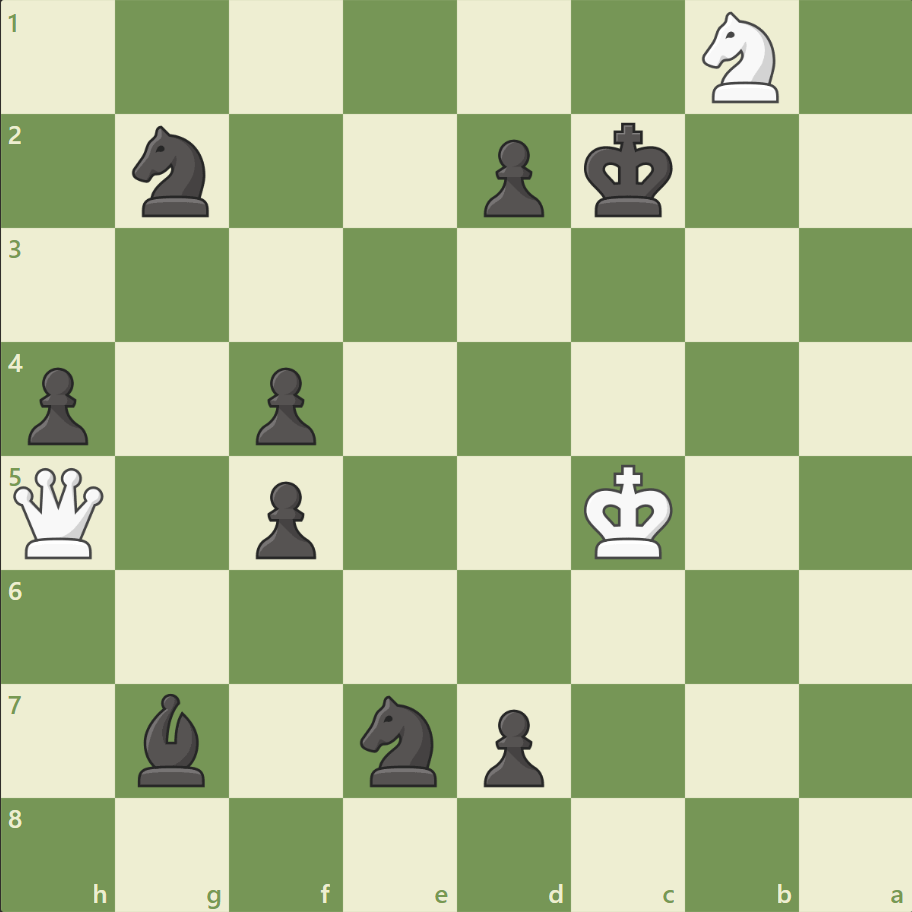K: (579, 458, 679, 566)
N: (692, 7, 789, 110)
Q: (10, 463, 109, 562)
b: (131, 687, 215, 790)
k: (579, 117, 679, 225)
n: (351, 688, 449, 791), (124, 121, 222, 223)
p: (474, 700, 549, 791), (247, 473, 322, 564), (247, 359, 322, 450), (20, 359, 95, 450), (474, 132, 549, 223)
